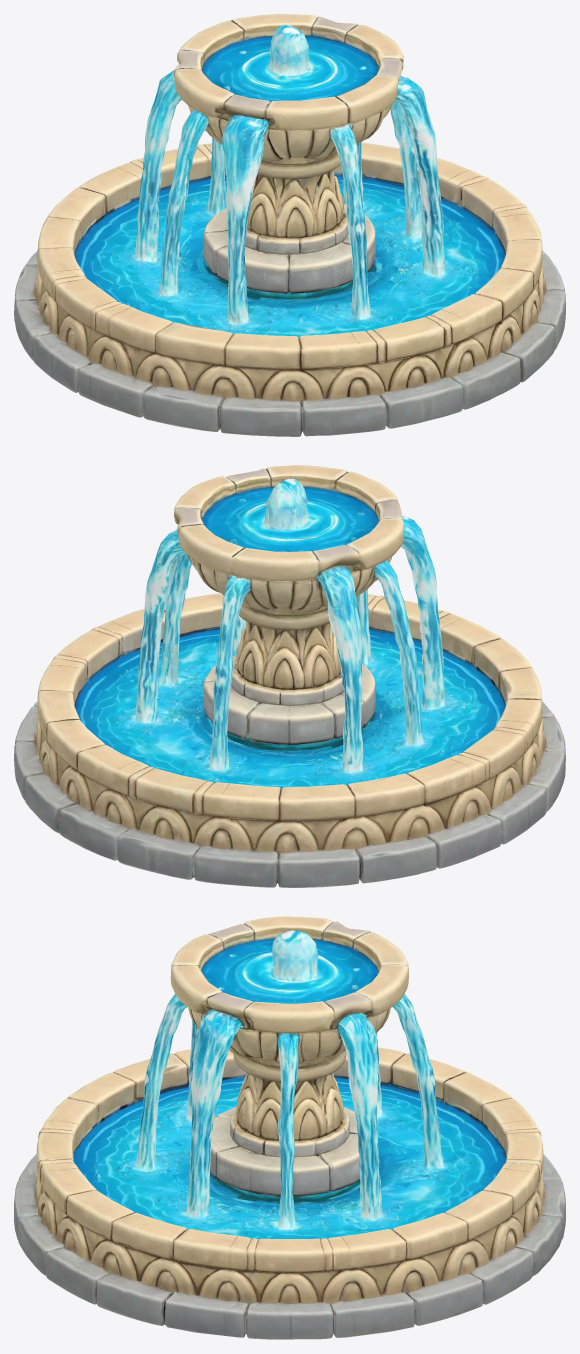
The model's file is fountain.glb.
3 views of the same model, one above another, from view 1: azimuth 30°, elevation 25°; view 2: azimuth 150°, elevation 25°; view 3: azimuth 270°, elevation 25° (orthographic).
Bounding box in the file's own units: 1.9 × 1.11 × 1.9.
Materials: 1 (1 with a texture image).
